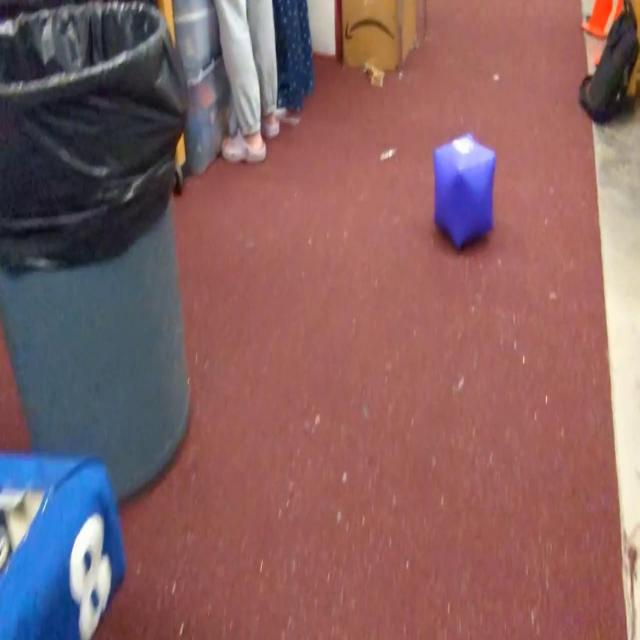frc_cube: (434, 135, 496, 256)
